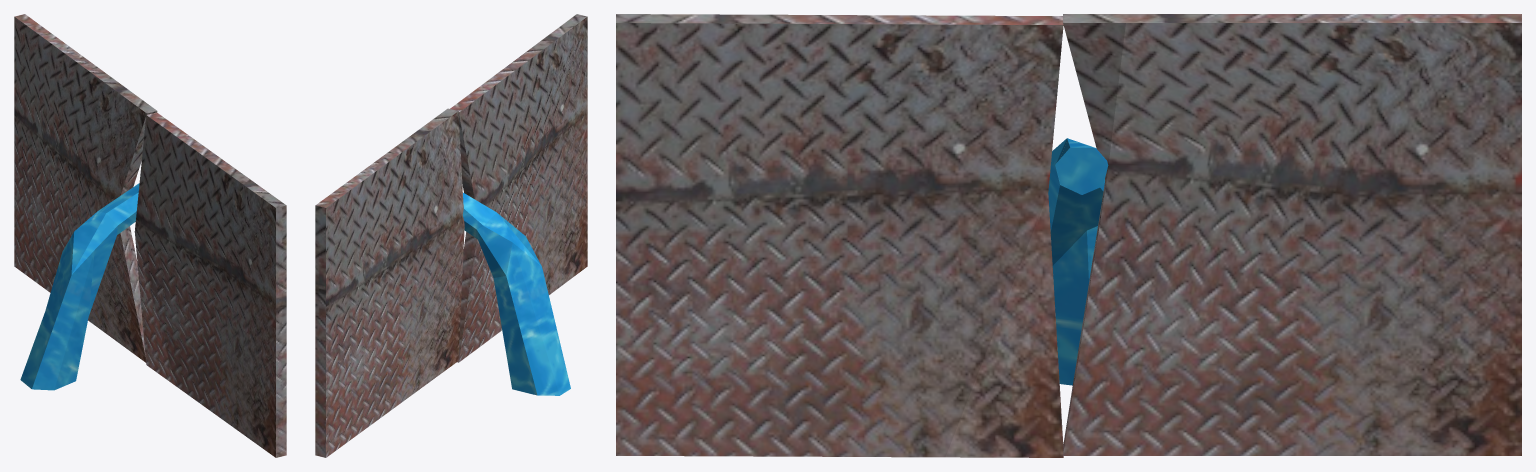
Rendered from ParedeAberta.glb.
3 renders of one model, left to right at view 1: azimuth 30°, elevation 25°; view 2: azimuth 150°, elevation 25°; view 3: azimuth 270°, elevation 25°, orthographic. The views are drawn at different scales.
Visible parts, largest first — view 1: Cube.001; view 2: Cube.001; view 3: Cube.001.
Boxes of the visible parts, box(x1,y1,x2,y2) form: Cube.001: box(14, 14, 286, 457); Cube.001: box(315, 14, 587, 457); Cube.001: box(616, 14, 1521, 457).
Size of the model in its own units: 3.86 by 7.45 by 14.05.
1 material, 1 textured.
